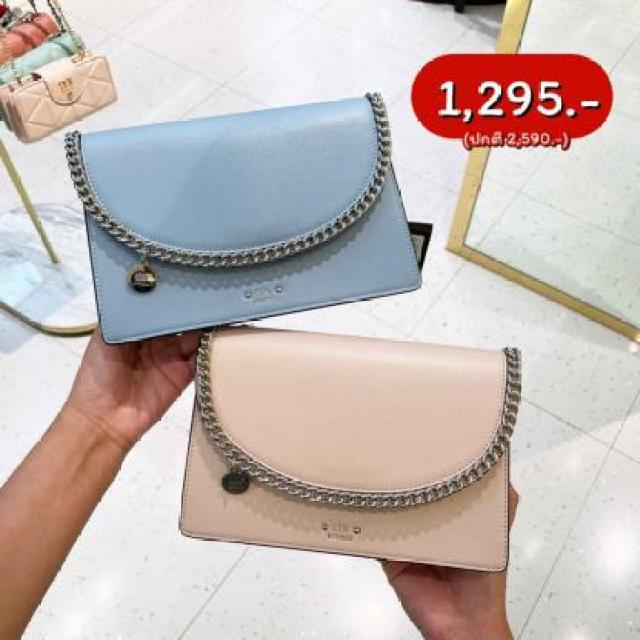Bag: (38, 85, 465, 366), (159, 282, 538, 583)
